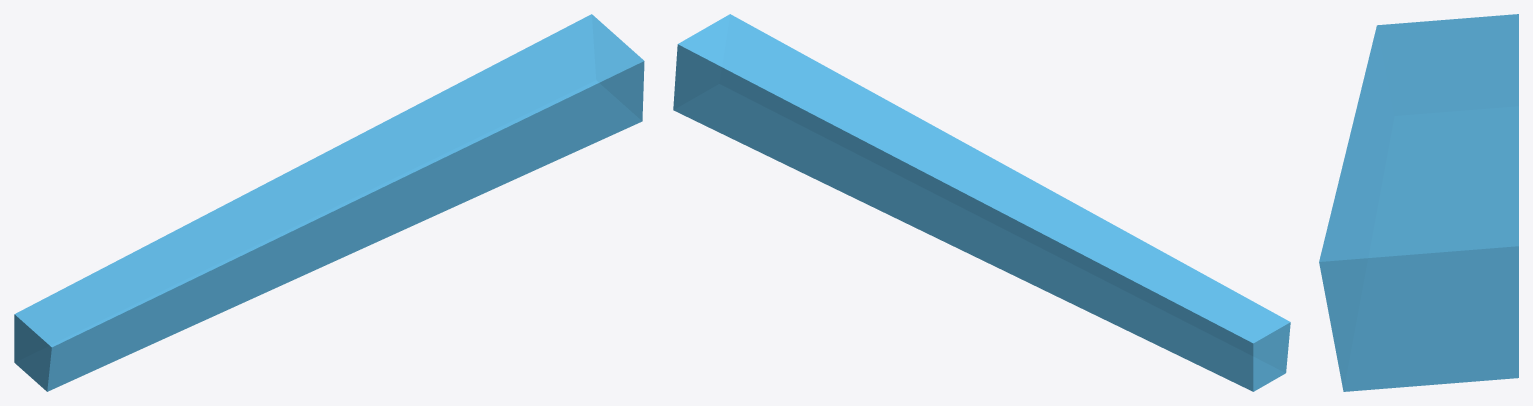
Rendered from Event_421115418_HErechit_52.fbx.
3 renders of one model, left to right at view 1: azimuth 30°, elevation 25°; view 2: azimuth 150°, elevation 25°; view 3: azimuth 270°, elevation 25°, orthographic. The views are drawn at different scales.
Parts seen in each view (by area): view 1: Model; view 2: Model; view 3: Model.
Boxes of the visible parts, left/top/right/bottom form: Model: left=14, top=14, right=644, bottom=391; Model: left=673, top=14, right=1290, bottom=391; Model: left=1319, top=14, right=1518, bottom=391.
Size of the model in its own units: 4.18 by 1.46 by 0.6558.
